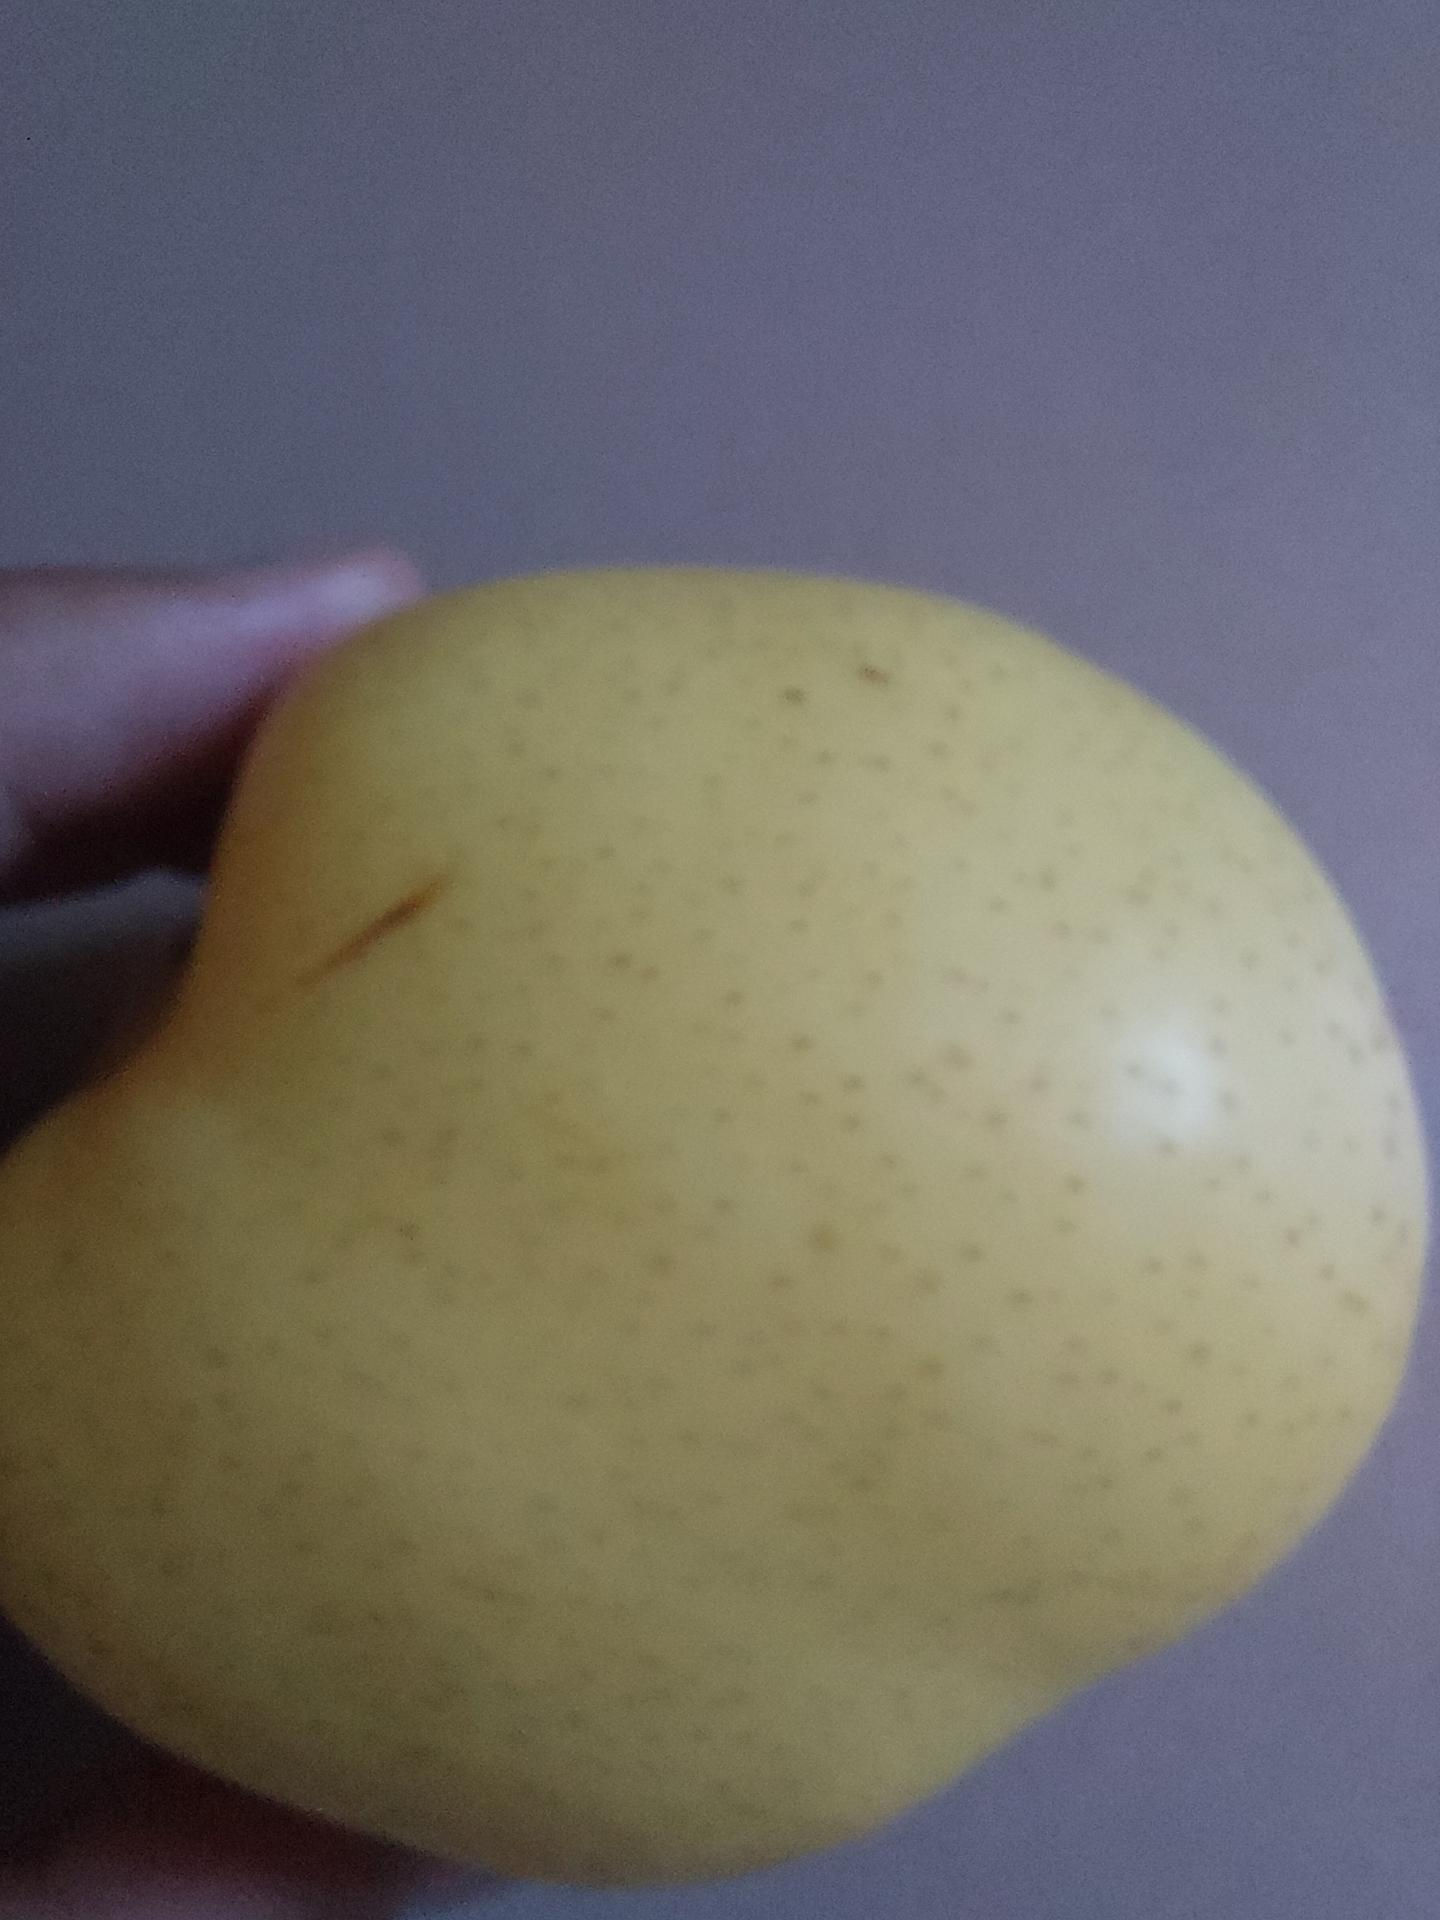Good Pear: (0, 875, 1420, 1897)
